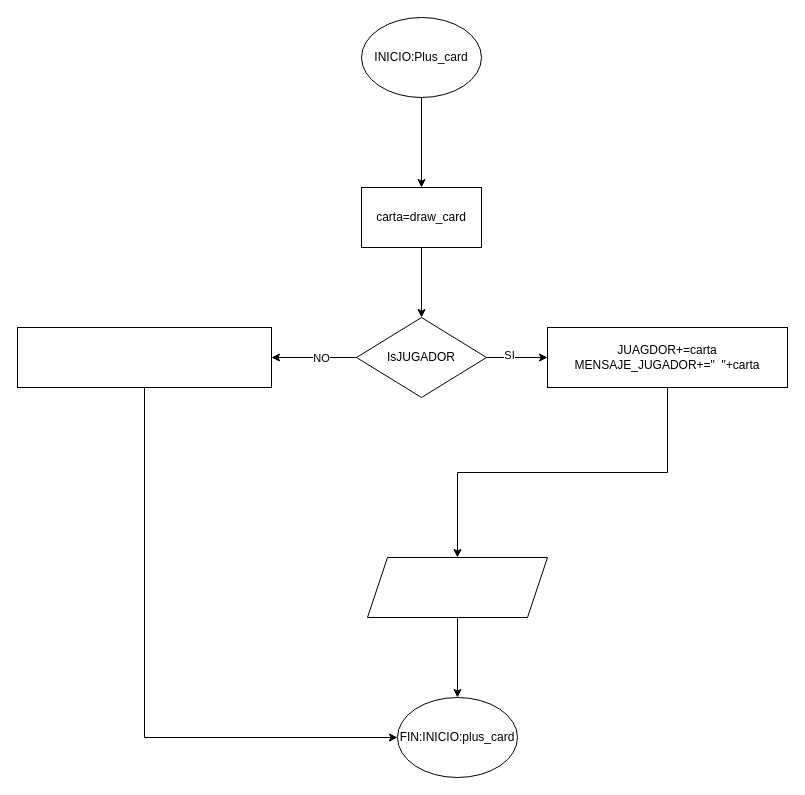
The diagram is 805 pixels wide and 795 high, and some of its shapes have lost their labels. The shapes that lost their labels are listed below. From the top down, each one's box as (x1, y1, x2, y2) in pixels, then its label:
(16, 326, 272, 388): MAQUINA+=carta MENSAJE_MAQUINA+=" "+carta
(366, 556, 548, 618): MENSAJE_JUAGDOR
